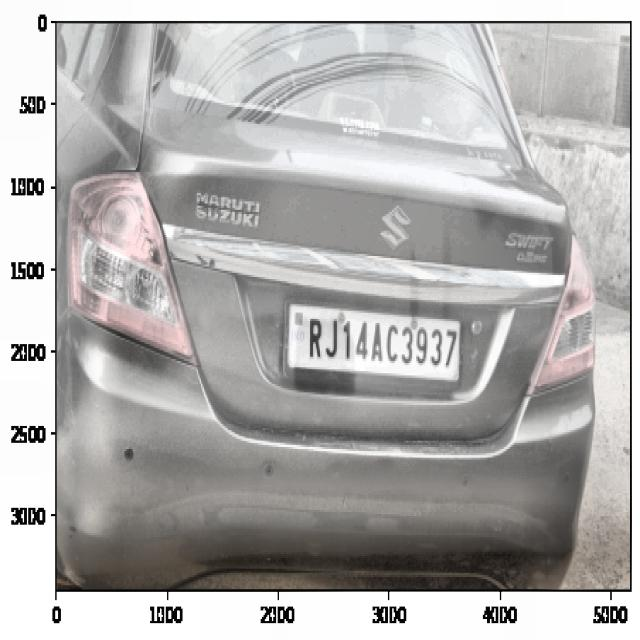license_plate: (303, 310, 460, 374)
